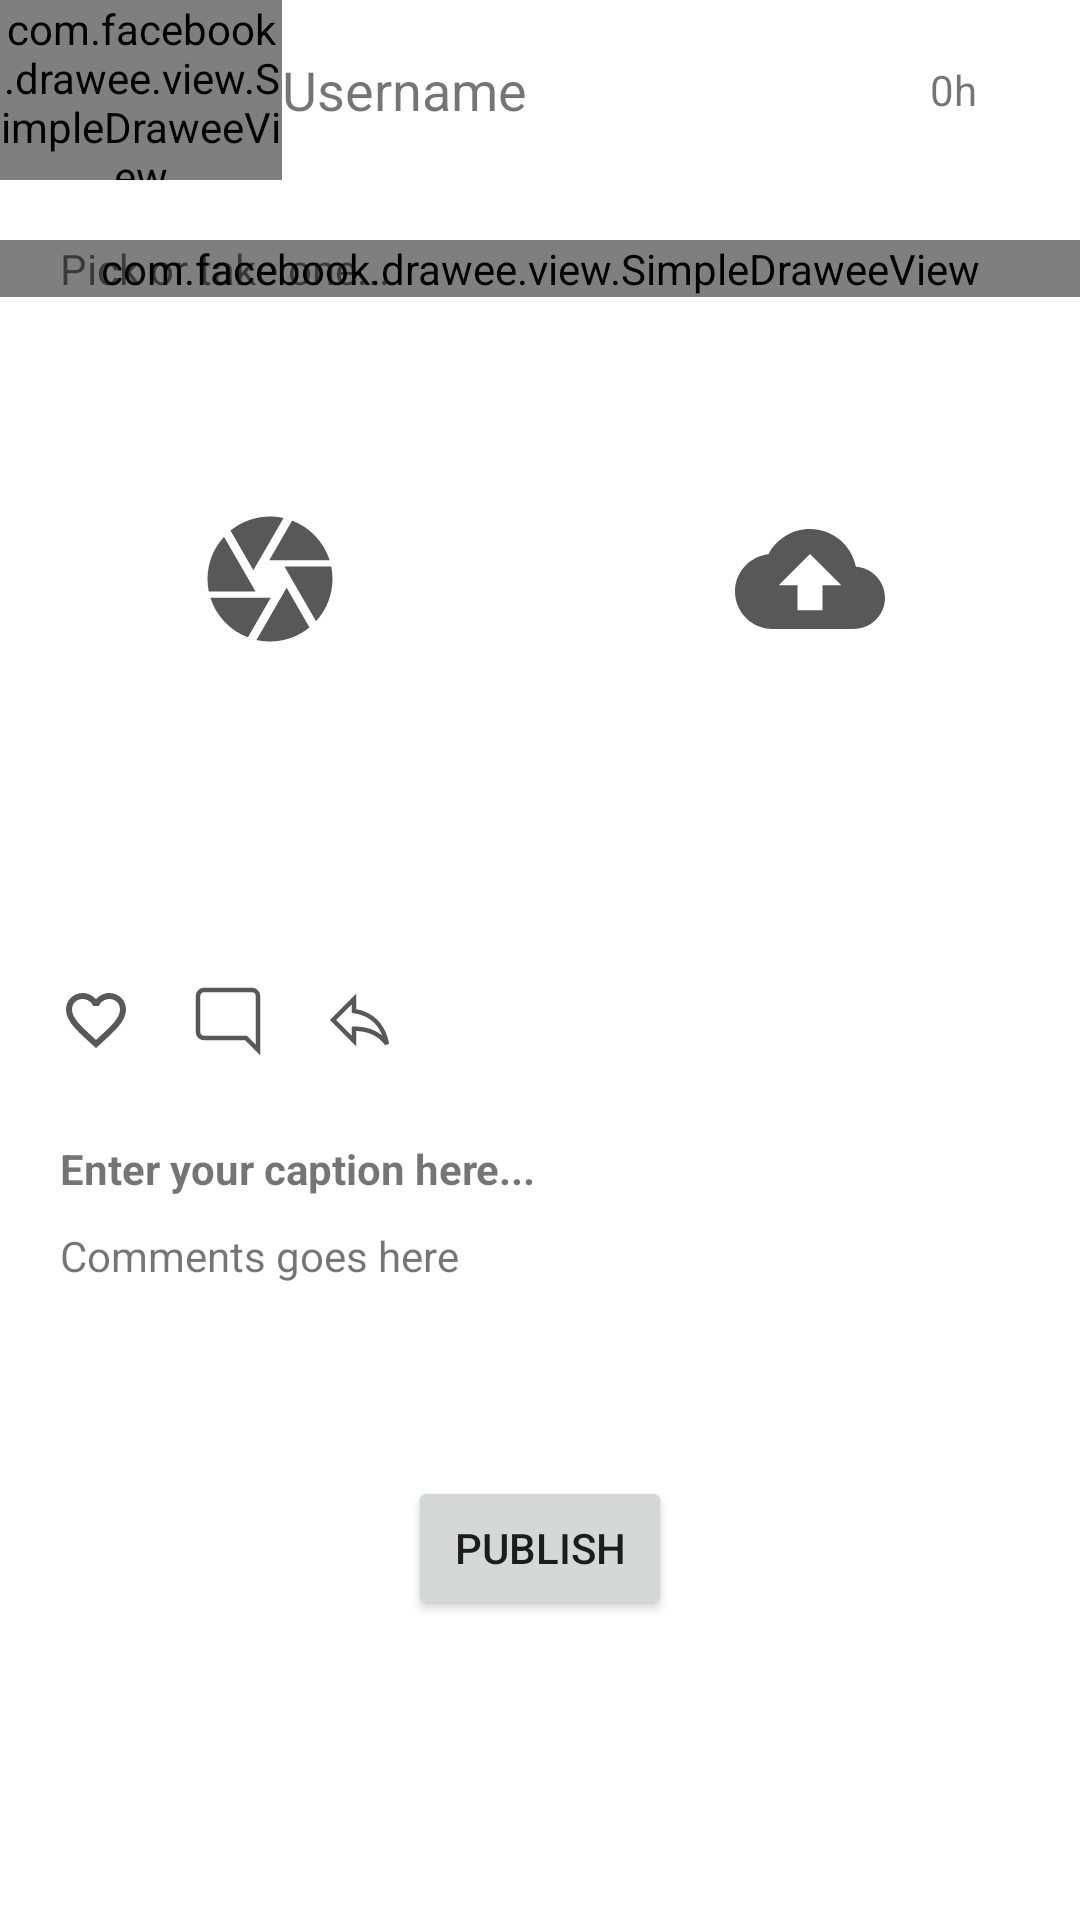

Icons on this 1080w x 1920h Android screen, each with the point to tap as point (x, y):
camera: point (270, 579)
favorite emp: point (96, 1020)
upload: point (810, 579)
